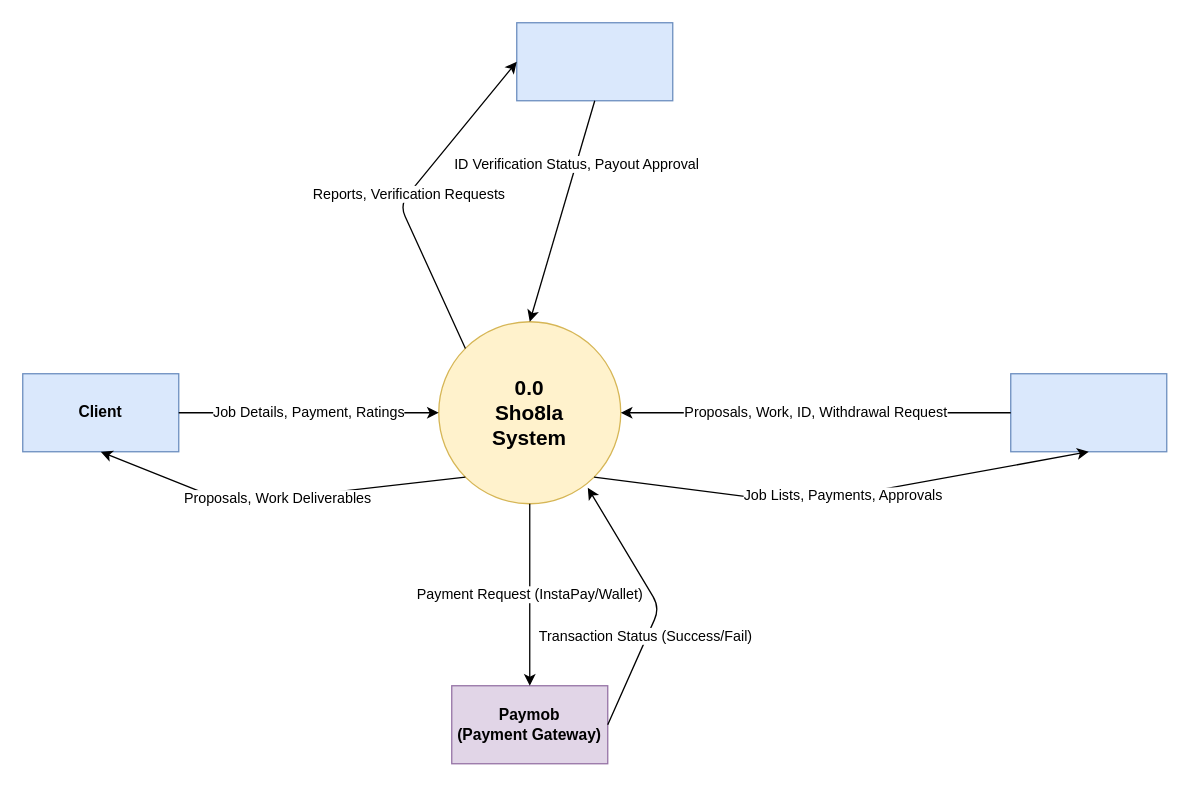
The diagram is 1190 pixels wide and 787 high, and some of its shapes have lost their labels. Each missing label, with the centre of its shape:
Admin: the point at 594,61
Freelancer (Student): the point at 1088,412
